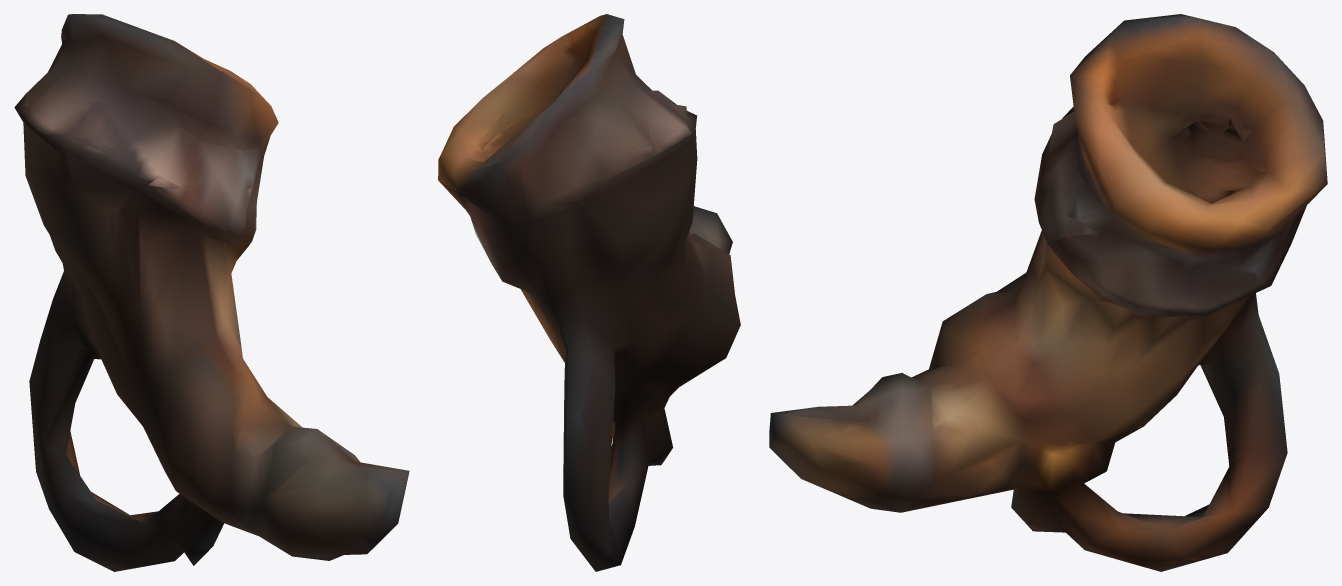
Rendered from war_horn.glb.
3 renders of one model, left to right at view 1: azimuth 30°, elevation 25°; view 2: azimuth 150°, elevation 25°; view 3: azimuth 270°, elevation 25°, orthographic. The views are drawn at different scales.
Visible parts, largest first — view 1: model; view 2: model; view 3: model.
Part boxes in pixels (x1,y1,x2,y2): model: (14, 14, 409, 571); model: (438, 14, 740, 571); model: (769, 14, 1327, 571).
Size of the model in its own units: 0.1822 by 0.3989 by 0.3627.
Materials: 1 (1 with a texture image).
